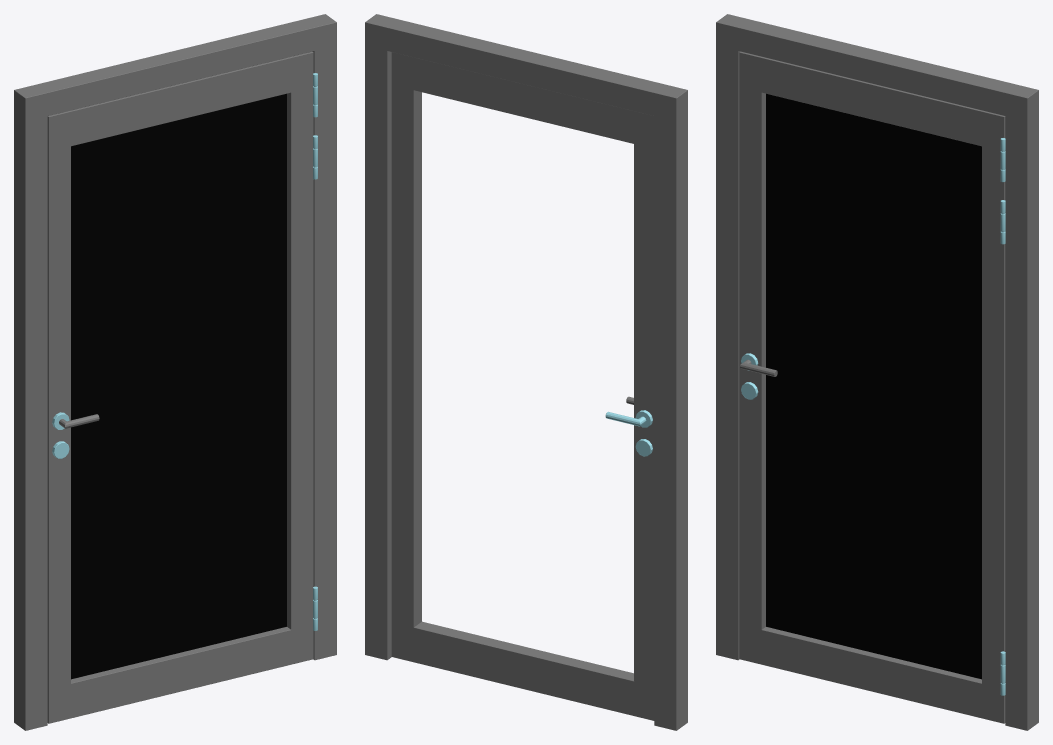
Rendered from PuertaBalcon.obj.
3 views of the same model, side by side, from view 1: azimuth 30°, elevation 25°; view 2: azimuth 150°, elevation 25°; view 3: azimuth 330°, elevation 25° (orthographic).
Parts seen in each view (by area): view 1: Rahmen polySurface15, Rahmen polySurface14, Rahmen polySurface1; view 2: Rahmen polySurface1, Rahmen polySurface14; view 3: Rahmen polySurface15, Rahmen polySurface1, Rahmen polySurface14.
Part boxes in pixels (x1,y1,x2,y2): Rahmen polySurface15: [71, 93, 286, 679]; Rahmen polySurface14: [47, 51, 313, 723]; Rahmen polySurface1: [14, 14, 336, 730]; Rahmen polySurface1: [365, 14, 687, 730]; Rahmen polySurface14: [391, 52, 654, 720]; Rahmen polySurface15: [766, 93, 981, 679]; Rahmen polySurface1: [716, 14, 1038, 730]; Rahmen polySurface14: [739, 51, 1005, 723].
Size of the model in its own units: 1.15 by 2.22 by 0.1535.
